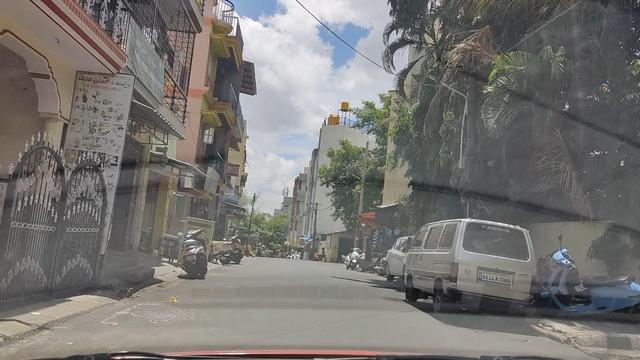LMV: (396, 222, 536, 315)
